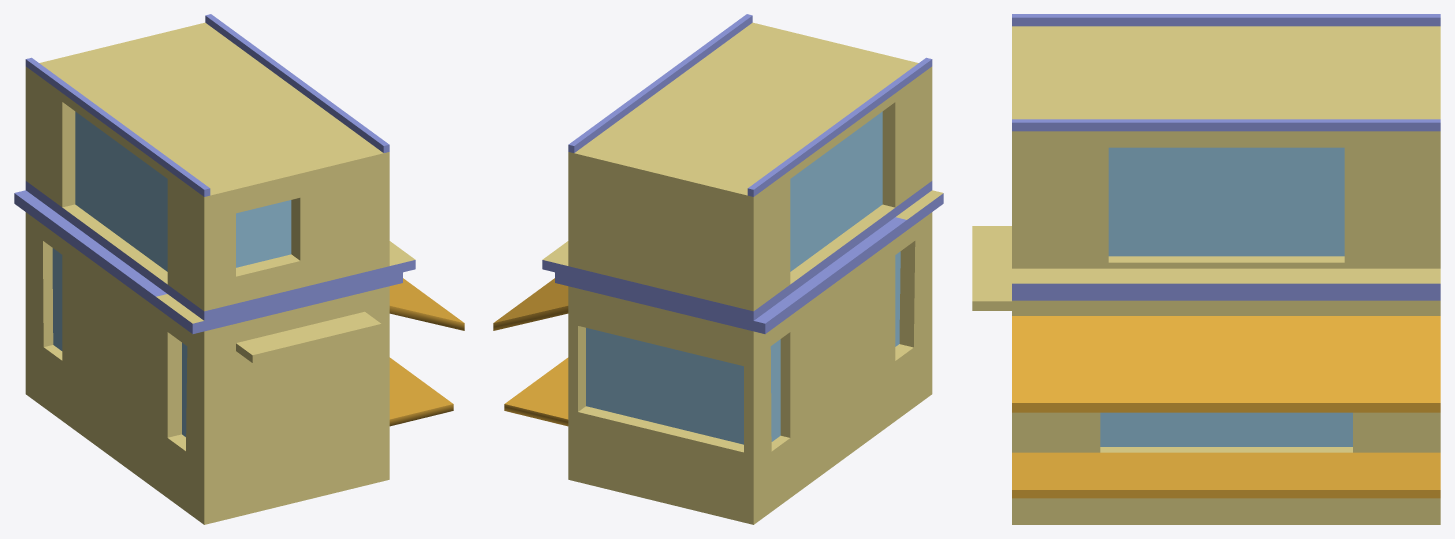
File: Last.fbx
3 renders of one model, left to right at view 1: azimuth 30°, elevation 25°; view 2: azimuth 150°, elevation 25°; view 3: azimuth 270°, elevation 25°, orthographic. The views are drawn at different scales.
Parts seen in each view (by area): view 1: Main.006, Deko.003, Glas, Überdach.003; view 2: Main.006, Glas, Deko.003, Überdach.003; view 3: Main.006, Überdach.003, Glas, Deko.003.
Part boxes in pixels (box(x1,y1,x2,y2)): Main.006: box(25, 22, 415, 524); Deko.003: box(14, 14, 415, 333); Glas: box(52, 111, 291, 436); Überdach.003: box(389, 278, 464, 426); Main.006: box(542, 22, 943, 524); Glas: box(586, 111, 900, 444); Deko.003: box(542, 14, 943, 333); Überdach.003: box(493, 278, 568, 426); Main.006: box(972, 26, 1440, 524); Überdach.003: box(1012, 316, 1440, 498); Glas: box(1100, 147, 1352, 446); Deko.003: box(1012, 14, 1440, 300).
Bounding box in the file's own units: 1065 × 1253 × 1323.
